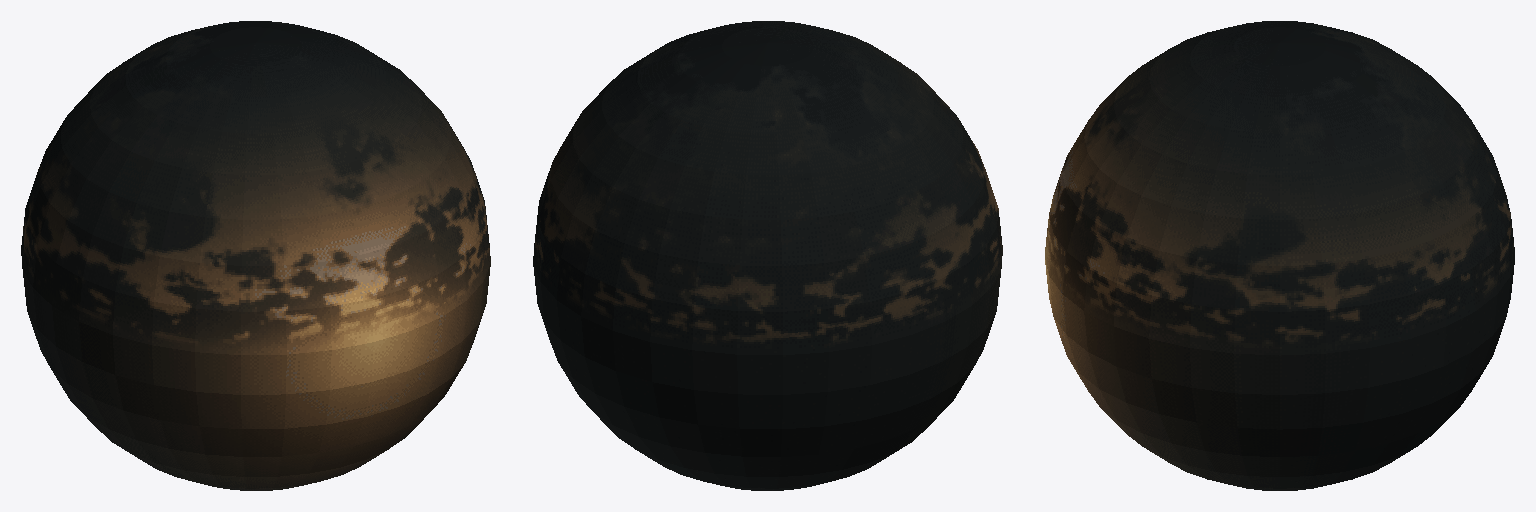
3 renders of one model, left to right at view 1: azimuth 30°, elevation 25°; view 2: azimuth 150°, elevation 25°; view 3: azimuth 270°, elevation 25°, orthographic.
Visible parts, largest first — view 1: skyboxdwn; view 2: skyboxdwn; view 3: skyboxdwn.
Part boxes in pixels (bbox=[...]): skyboxdwn: bbox=[21, 21, 490, 490]; skyboxdwn: bbox=[533, 21, 1002, 490]; skyboxdwn: bbox=[1045, 21, 1514, 490].
Size of the model in its own units: 1100 by 1100 by 1100.
1 materials, 1 textured.